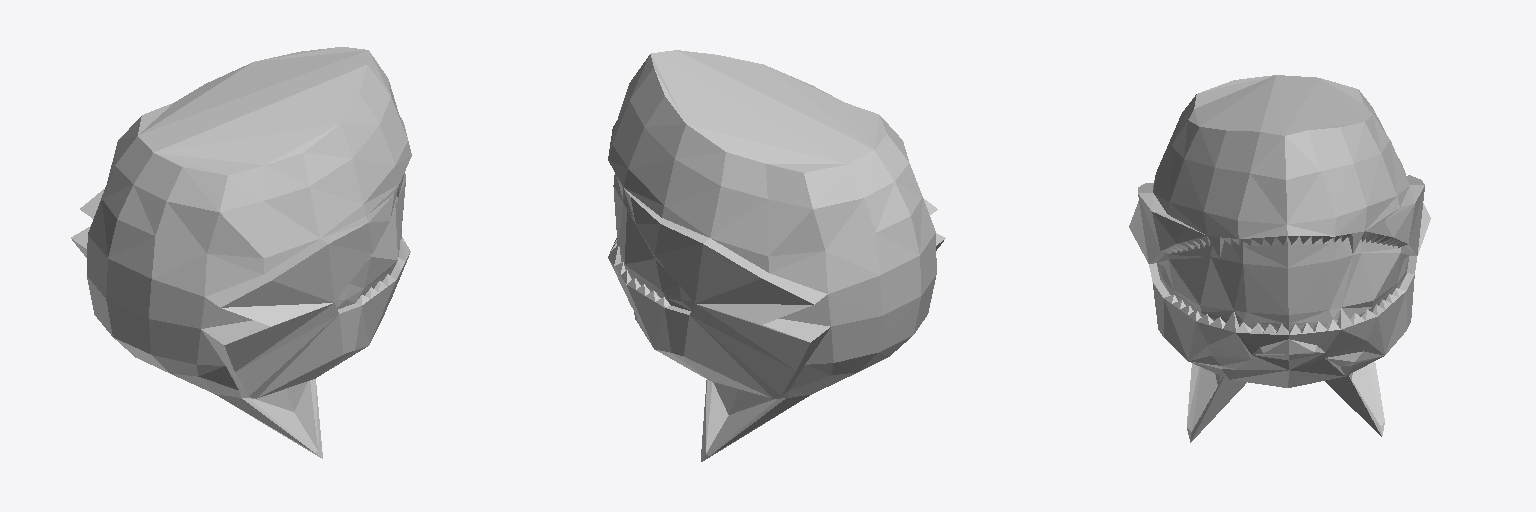
The model's file is helmet_run0001.obj.
3 renders of one model, left to right at view 1: azimuth 30°, elevation 25°; view 2: azimuth 150°, elevation 25°; view 3: azimuth 270°, elevation 25°, orthographic.
Visible parts, largest first — view 1: new_helmet; view 2: new_helmet; view 3: new_helmet.
Part boxes in pixels (left/top/right/bottom): new_helmet: left=71, top=47, right=411, bottom=458; new_helmet: left=608, top=50, right=945, bottom=461; new_helmet: left=1129, top=75, right=1430, bottom=442.
Bounding box in the file's own units: 0.6506 × 0.7228 × 0.562.